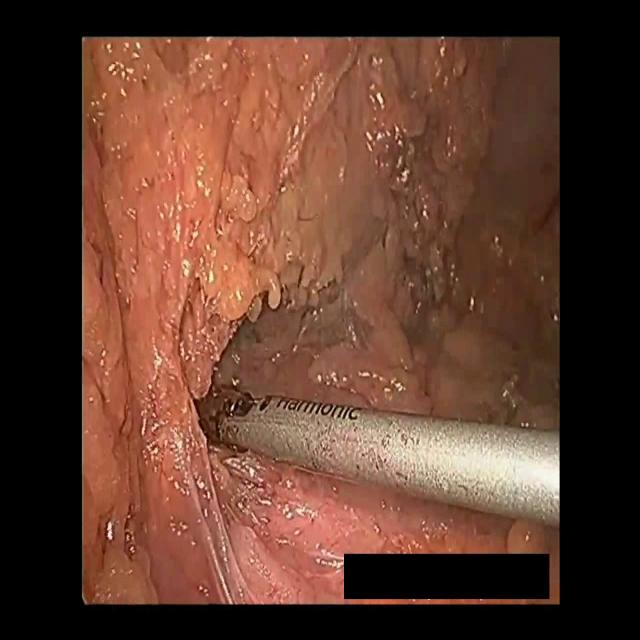surgical-area: (82, 40, 560, 606)
surgical-tool: (194, 382, 560, 532)
